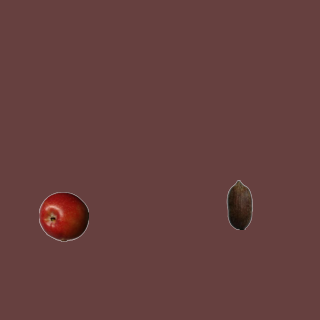Apple Braeburn: (38, 191, 88, 241)
Nut Pecan: (214, 179, 264, 229)
